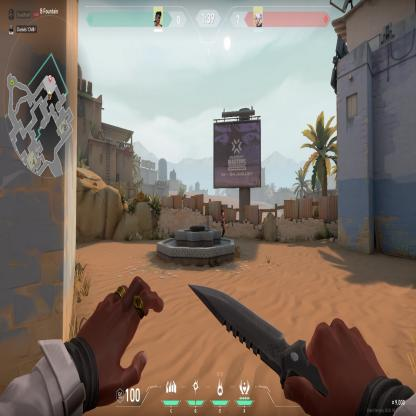enemy: (220, 212, 226, 238)
